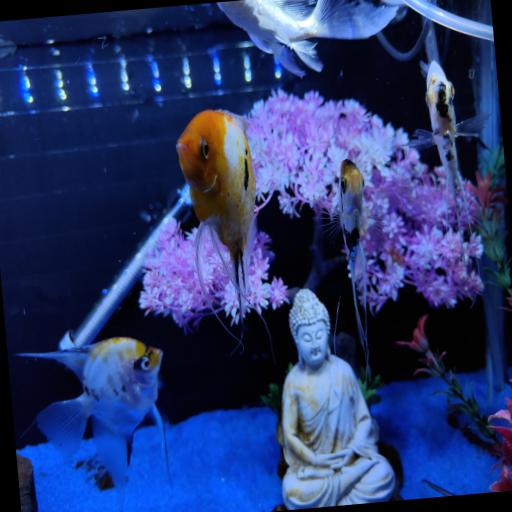Fish: (19, 337, 166, 511), (177, 110, 256, 319), (411, 61, 490, 263), (219, 0, 397, 76), (337, 160, 372, 367)
